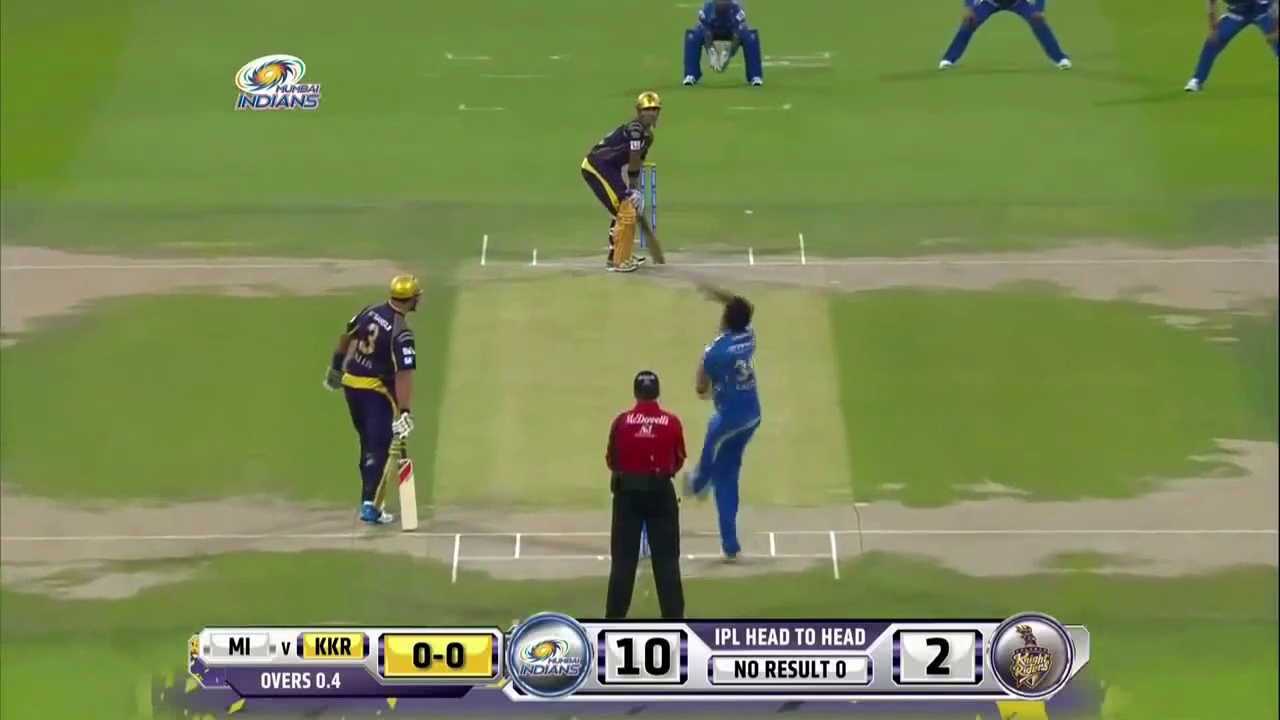bat: (395, 440, 421, 531), (640, 216, 666, 264)
